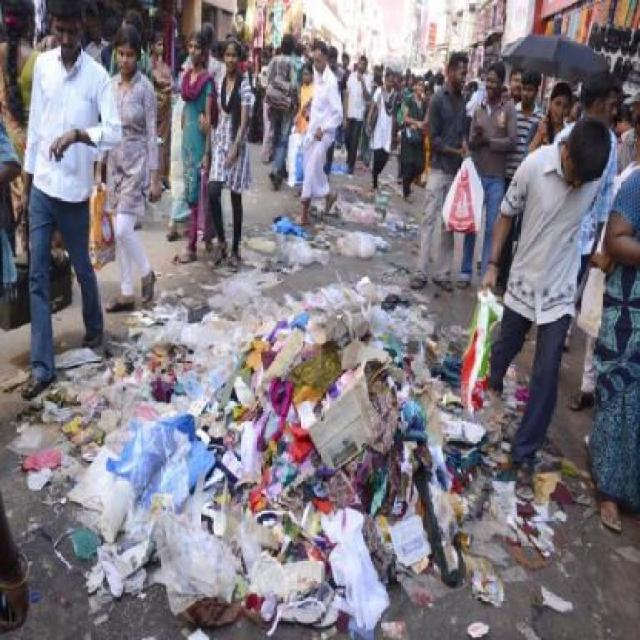garbage: (57, 374, 486, 598), (134, 306, 378, 373), (497, 495, 574, 620), (383, 299, 474, 382), (14, 419, 59, 505), (342, 193, 414, 236), (248, 226, 314, 270), (323, 231, 382, 261)
